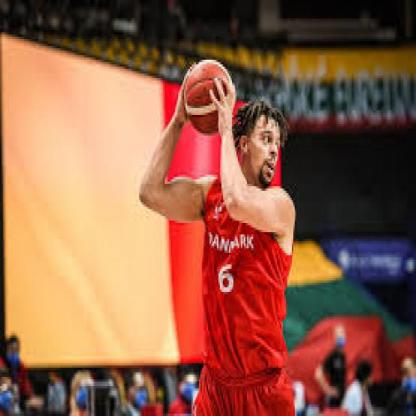basketball: (182, 58, 235, 136)
